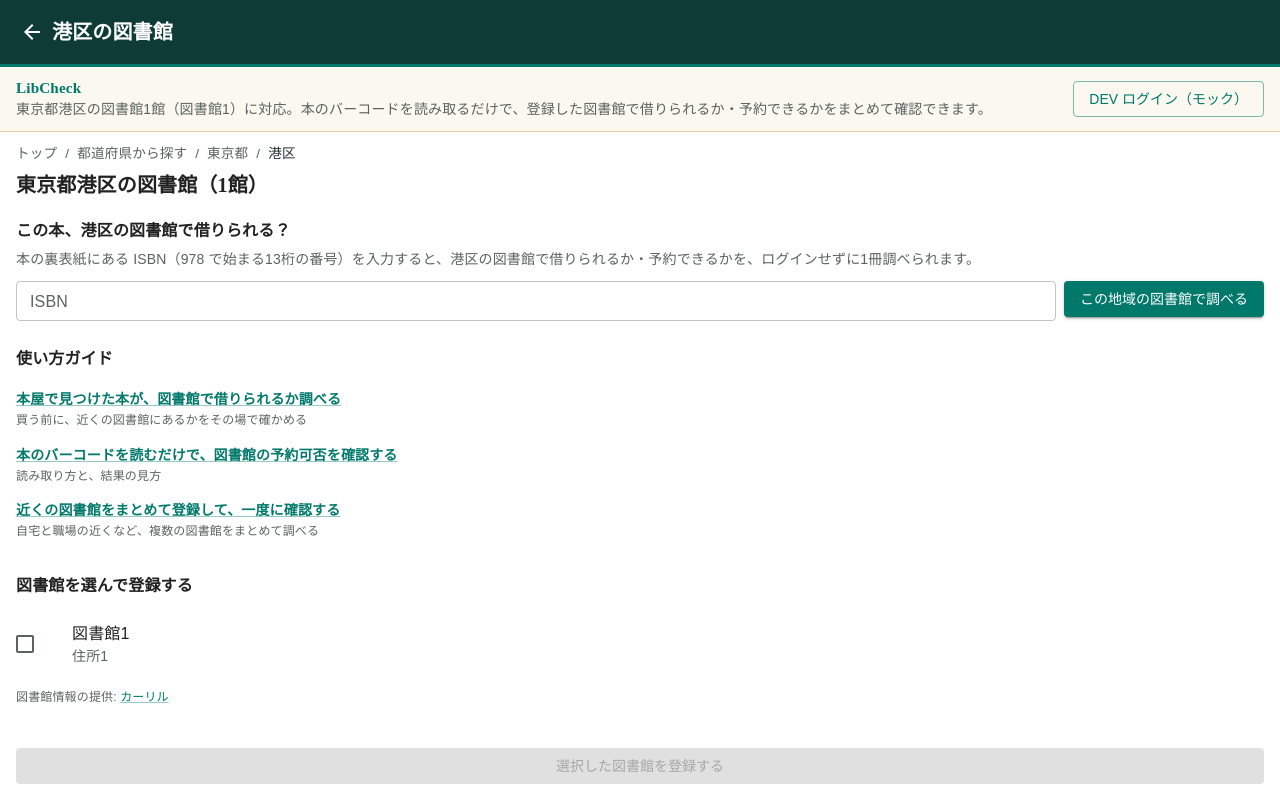
Test: 未ログインでの登録操作（#158, #167） › 未ログインで登録すると、選択を保持したままログインダイアログが開く
Click the text "図書館1" at {"x": 101, "y": 634}, box [72,625,130,642]
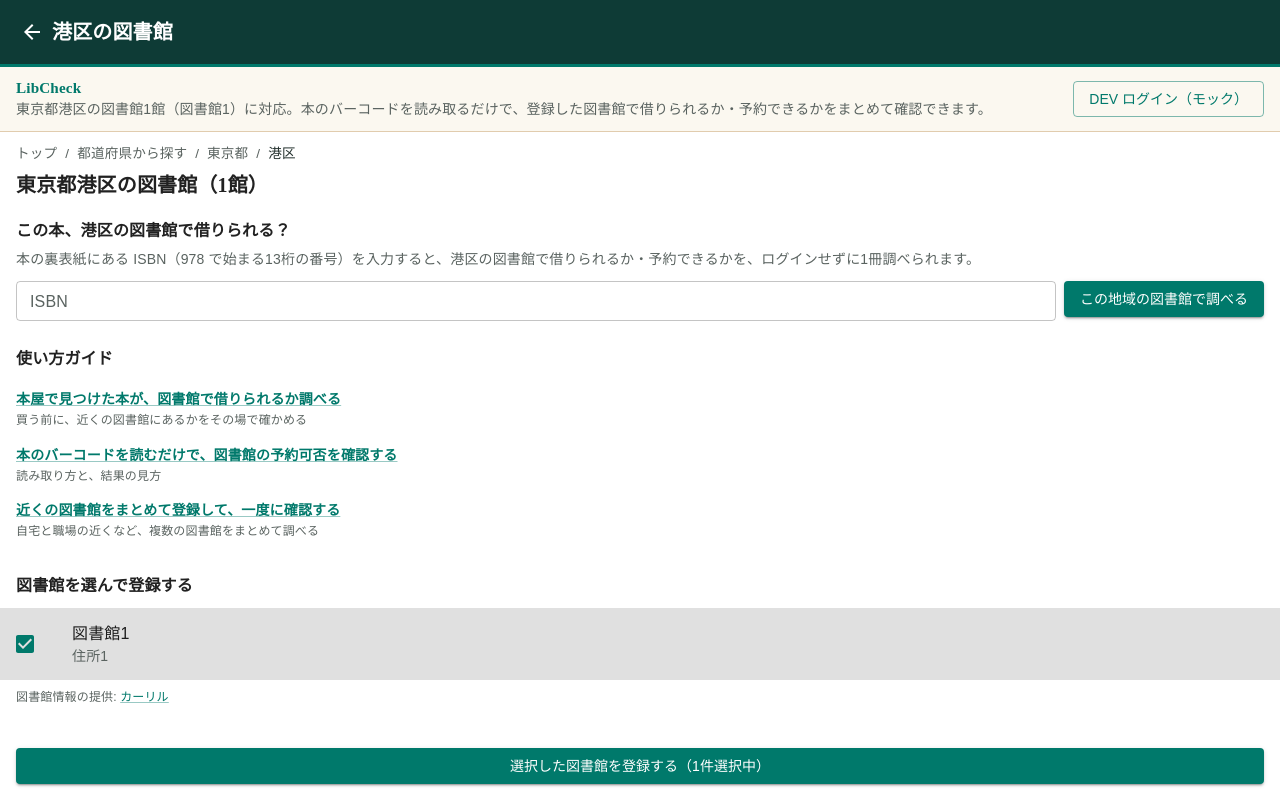
Click the button "選択した図書館を登録する（1件選択中）" at {"x": 640, "y": 766}, box [16,748,1264,784]
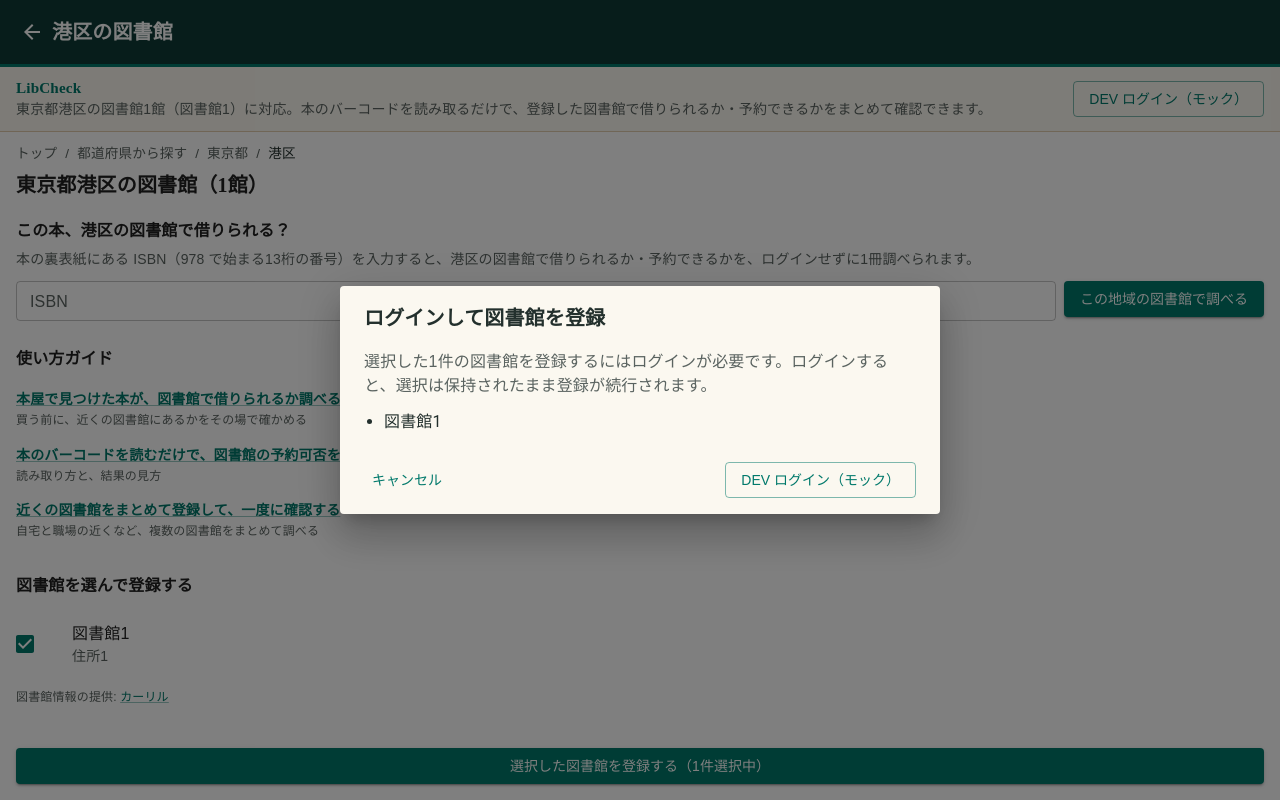
Expected: the button "選択した図書館を登録する（1件選択中）" is shown, [16,748,1264,784]
Expected: the dialog shows "図書館1", [384,412,442,431]
